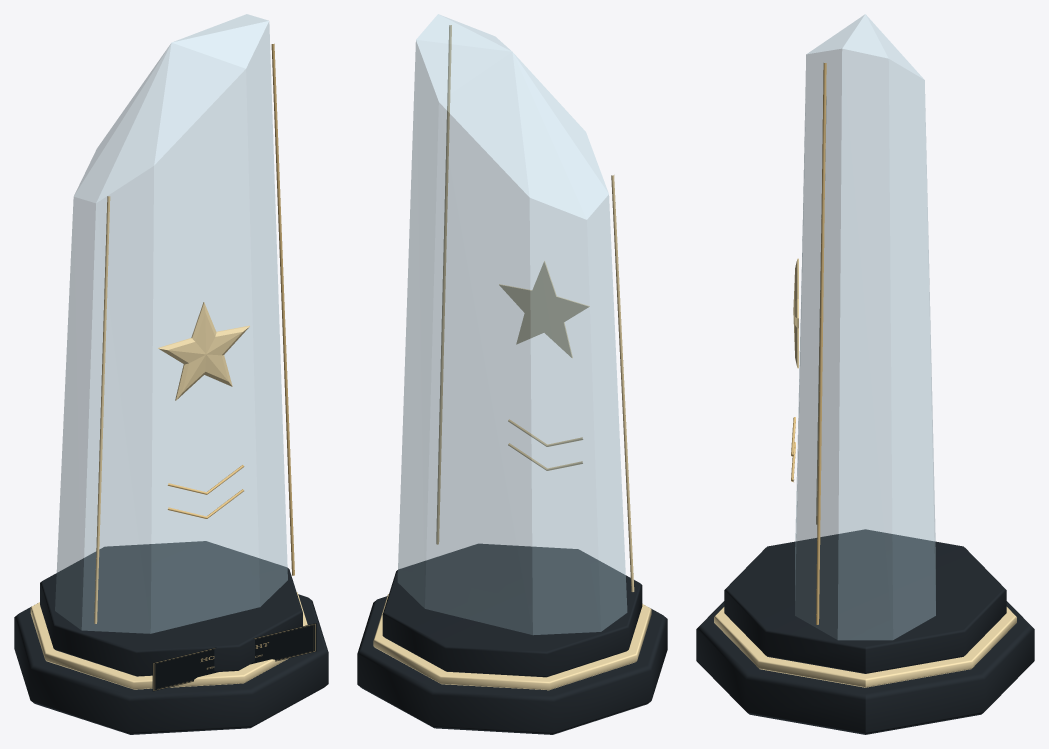
The model's file is crystal-award.glb.
The picture shows the model from 3 angles, left to right: view 1: azimuth 30°, elevation 25°; view 2: azimuth 150°, elevation 25°; view 3: azimuth 270°, elevation 25°; orthographic projection. The views are drawn at different scales.
Parts seen in each view (by area): view 1: House Light; view 2: House Light; view 3: House Light.
Boxes of the visible parts, x1,y1,x2,y2 form: House Light: (14, 14, 328, 734); House Light: (357, 14, 667, 734); House Light: (696, 14, 1034, 734).
Size of the model in its own units: 0.134 by 0.2891 by 0.134.
5 materials, 1 textured.
